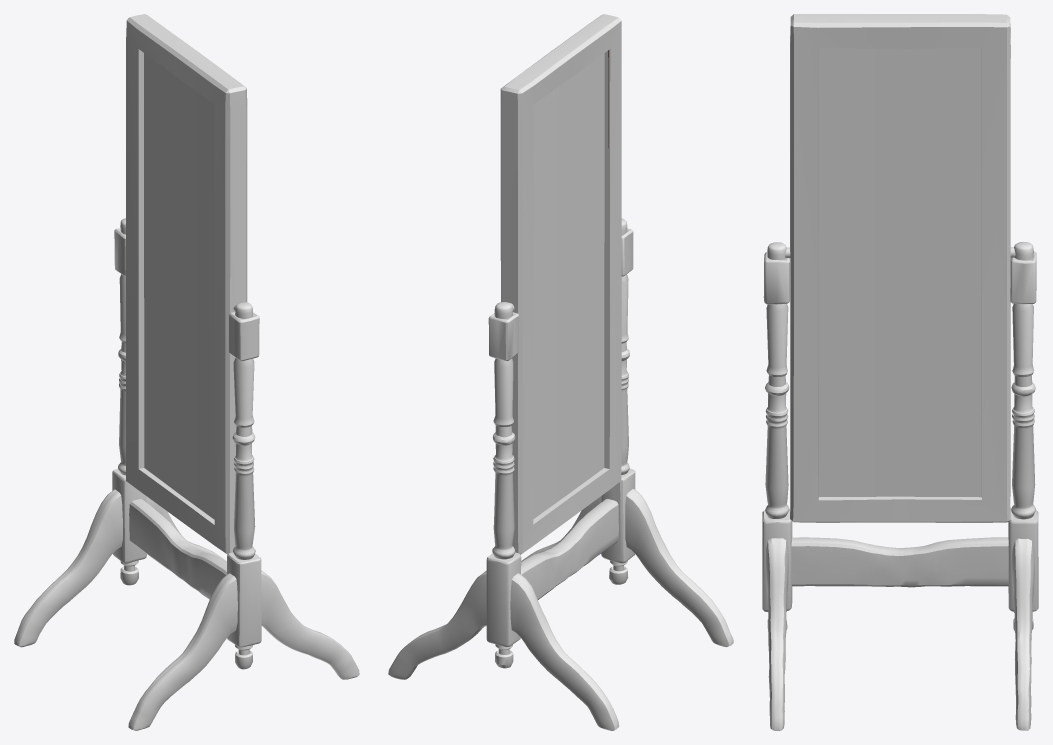
The model's file is The_Mirror.fbx.
3 renders of one model, left to right at view 1: azimuth 30°, elevation 25°; view 2: azimuth 150°, elevation 25°; view 3: azimuth 270°, elevation 25°, orthographic. The views are drawn at different scales.
Visible parts, largest first — view 1: Base; view 2: Base; view 3: Base.
Part boxes in pixels (x1,y1,x2,y2): Base: (14, 14, 359, 730); Base: (388, 14, 733, 730); Base: (762, 14, 1038, 730).
Bounding box in the file's own units: 2.52 × 6.44 × 2.46.
3 materials, 2 textured.
